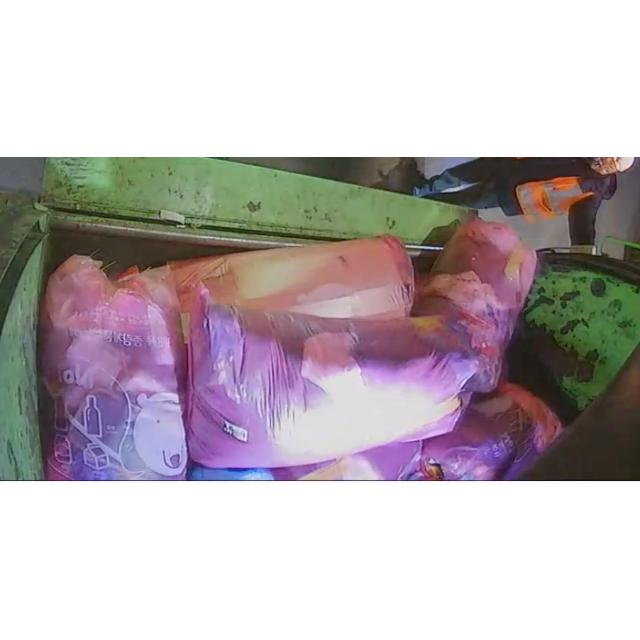other_trashbag: (188, 285, 480, 467), (41, 255, 188, 480), (411, 217, 536, 391), (171, 236, 414, 317), (401, 381, 561, 480)
